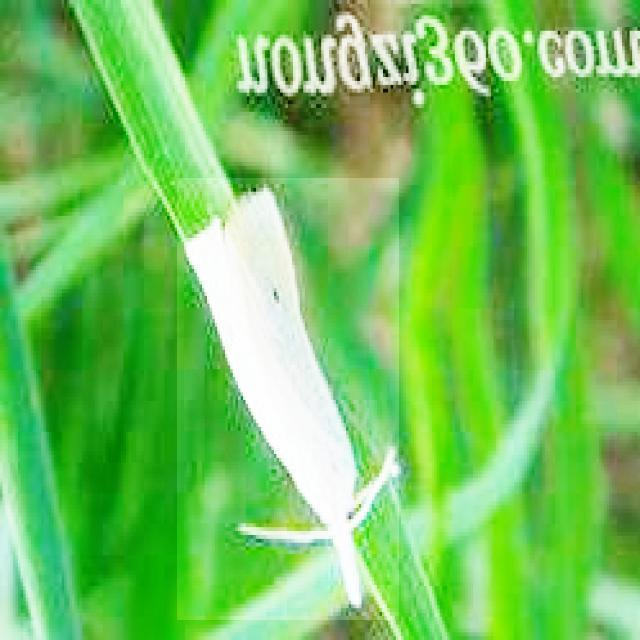stem-borer: (178, 179, 399, 620)
